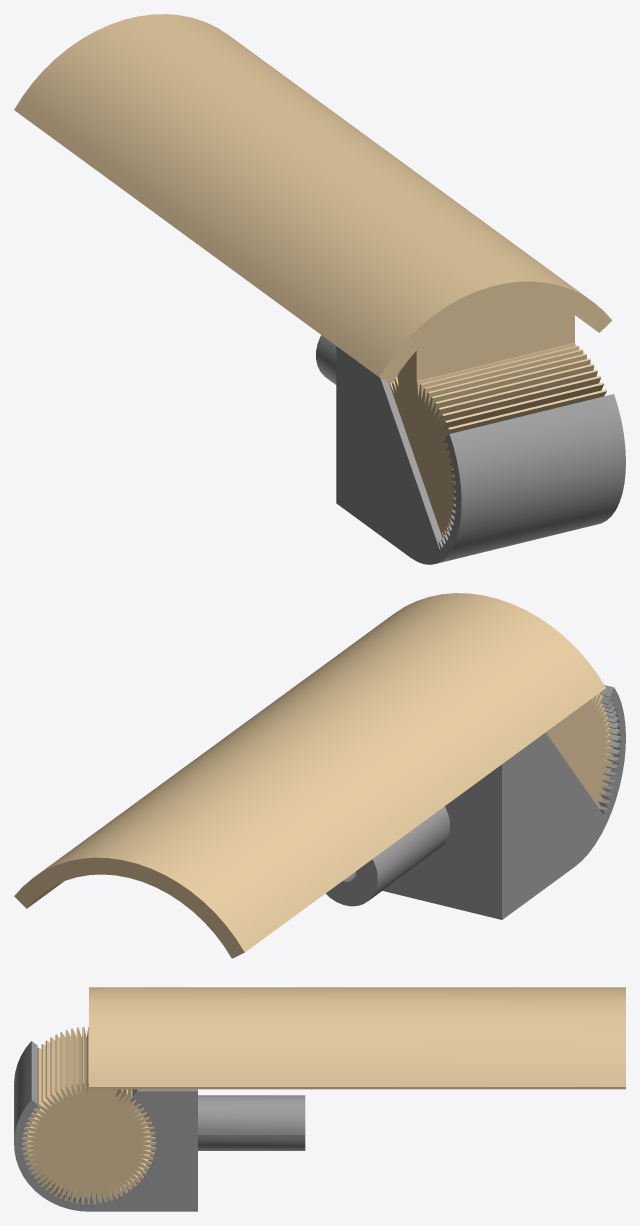
Rendered from airbrake.gltf.
3 renders of one model, top to bottom at view 1: azimuth 30°, elevation 25°; view 2: azimuth 150°, elevation 25°; view 3: azimuth 270°, elevation 25°, orthographic. The views are drawn at different scales.
Parts seen in each view (by area): view 1: Attachable Air Brake v24_node, Hub v23_node; view 2: Attachable Air Brake v24_node, Hub v23_node; view 3: Attachable Air Brake v24_node, Hub v23_node.
Part boxes in pixels (x1=…): Attachable Air Brake v24_node: x1=14, y1=14, x2=611, y2=538; Hub v23_node: x1=316, y1=335, x2=625, y2=564; Attachable Air Brake v24_node: x1=14, y1=593, x2=613, y2=958; Hub v23_node: x1=326, y1=685, x2=625, y2=919; Attachable Air Brake v24_node: x1=22, y1=987, x2=625, y2=1203; Hub v23_node: x1=14, y1=1041, x2=305, y2=1211.
Bounding box in the file's own units: 0.9363 × 0.9639 × 2.9.
